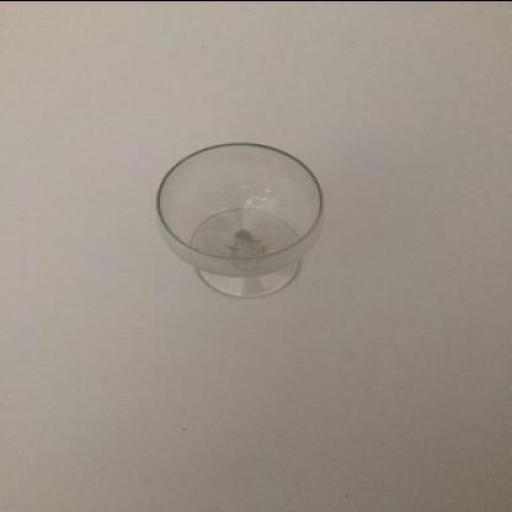glass: (155, 140, 325, 296)
